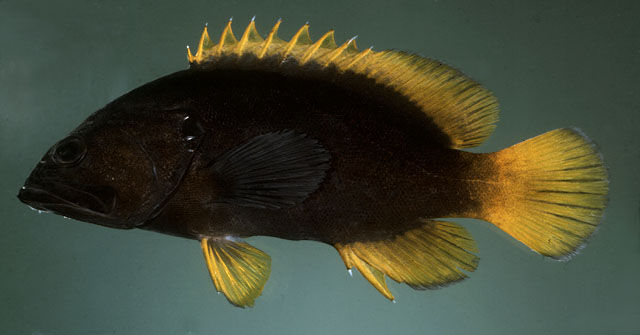fish: (18, 14, 612, 308)
